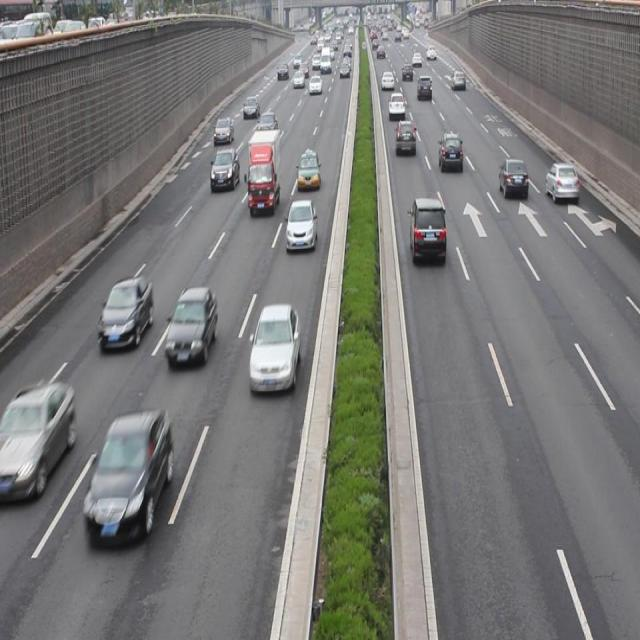bus: (247, 130, 280, 213)
car: (82, 408, 171, 544), (0, 381, 72, 497), (248, 303, 300, 390), (97, 275, 153, 352), (164, 286, 218, 363), (409, 195, 446, 262), (285, 198, 316, 250), (544, 160, 577, 201), (498, 157, 527, 200), (210, 148, 239, 190), (296, 151, 321, 192), (438, 131, 463, 171), (394, 120, 416, 155), (214, 116, 234, 144), (256, 112, 276, 136)
